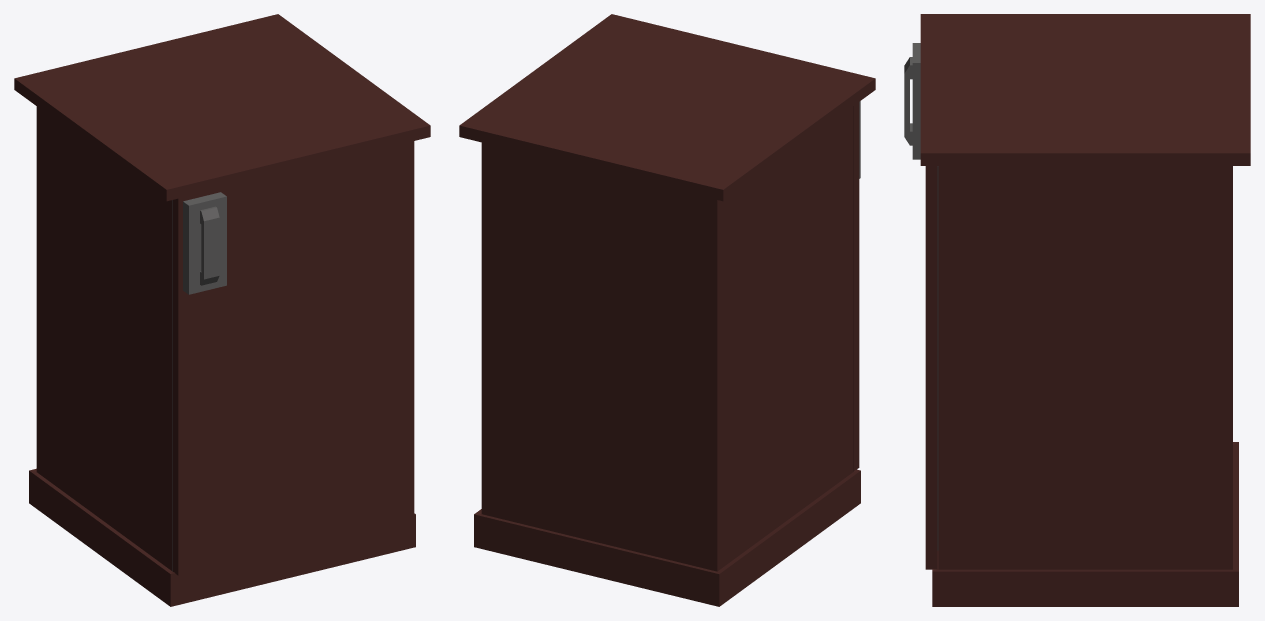
Rendered from freezersmall_01_C.gltf.
The picture shows the model from 3 angles, left to right: view 1: azimuth 30°, elevation 25°; view 2: azimuth 150°, elevation 25°; view 3: azimuth 270°, elevation 25°; orthographic projection. The views are drawn at different scales.
Visible parts, largest first — view 1: freezersmall_01_C, Doorfreezersmall_01_C; view 2: freezersmall_01_C, Doorfreezersmall_01_C; view 3: freezersmall_01_C, Doorfreezersmall_01_C.
Boxes of the visible parts, x1=… form: freezersmall_01_C: x1=14, y1=14, x2=430, y2=606; Doorfreezersmall_01_C: x1=173, y1=141, x2=414, y2=575; freezersmall_01_C: x1=459, y1=14, x2=875, y2=606; Doorfreezersmall_01_C: x1=853, y1=101, x2=860, y2=471; freezersmall_01_C: x1=920, y1=14, x2=1250, y2=606; Doorfreezersmall_01_C: x1=904, y1=43, x2=938, y2=569.
Size of the model in its own units: 0.6717 by 1.03 by 0.7049.
1 material, 1 textured.
